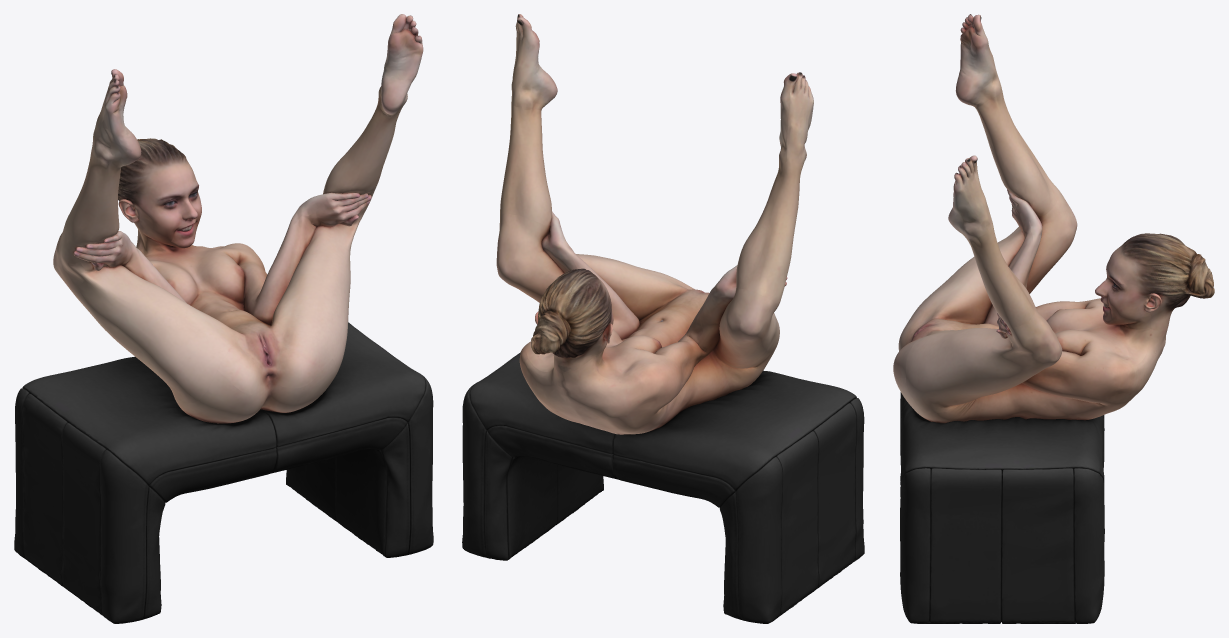
File: wmn.glb
3 views of the same model, side by side, from view 1: azimuth 30°, elevation 25°; view 2: azimuth 150°, elevation 25°; view 3: azimuth 270°, elevation 25° (orthographic). The views are drawn at different scales.
Visible parts, largest first — view 1: Object_2, Object_3; view 2: Object_2, Object_3; view 3: Object_3, Object_2.
Part boxes in pixels (box(x1,y1,x2,y2)): Object_2: box(14, 322, 433, 623); Object_3: box(53, 14, 423, 423); Object_2: box(462, 352, 864, 623); Object_3: box(496, 14, 813, 434); Object_3: box(893, 14, 1214, 423); Object_2: box(900, 392, 1104, 623).
Bounding box in the file's own units: 731 × 1071 × 646.
Materials: 2 (2 with a texture image).
